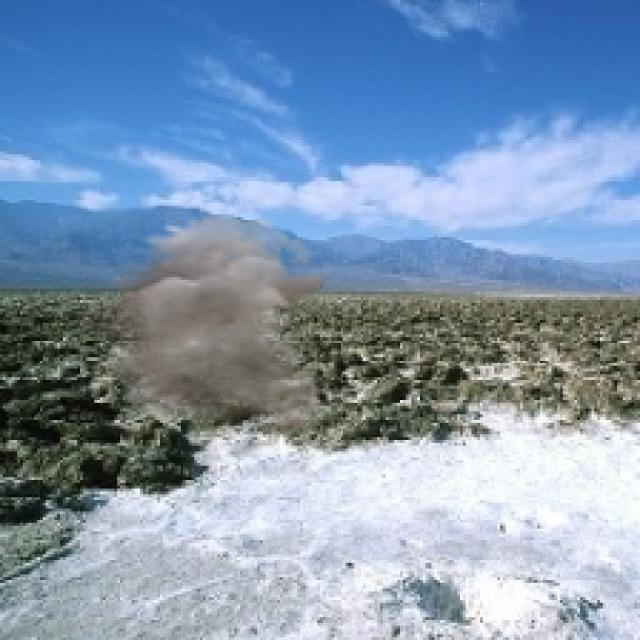Smoke: (74, 215, 334, 434)
